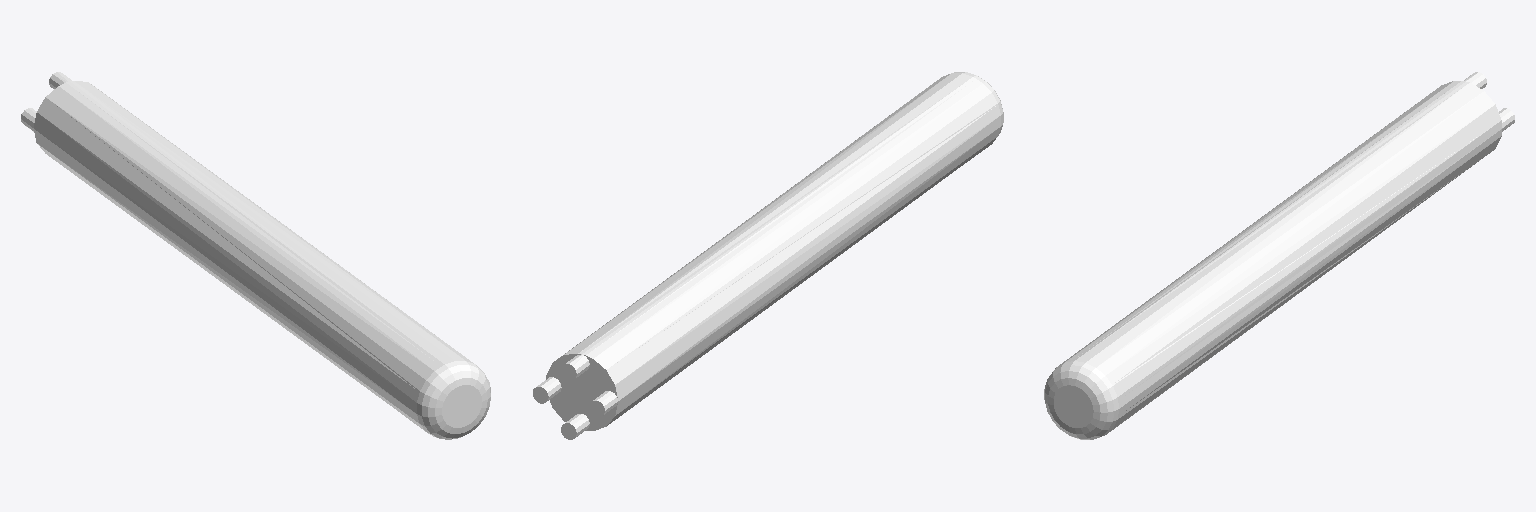
URDF robot description (T1301):
<robot
  name="T1301">
  <link
    name="T1301">
    <inertial>
      <origin
        xyz="4.4228E-07 -10.386 -2.98859999364062E-07"
        rpy="0 0 0" />
      <mass
        value="83706" />
      <inertia
        ixx="3121828.49466314"
        ixy="0.397474323969764"
        ixz="1.10641399662118E-08"
        iyy="52914.1877240007"
        iyz="0.268581425171284"
        izz="3121828.7945705" />
    </inertial>
    <visual>
      <origin
        xyz="0 0 0"
        rpy="1.5707963267949 0 0" />
      <geometry>
        <mesh
          filename="package://T1301/meshes/T1301.STL" />
      </geometry>
      <material
        name="">
        <color
          rgba="1 1 1 1" />
      </material>
    </visual>
    <collision>
      <origin
        xyz="0 0 0"
        rpy="1.5707963267949 0 0" />
      <geometry>
        <mesh
          filename="package://T1301/meshes/T1301.STL" />
      </geometry>
    </collision>
  </link>
</robot>

--- Render facts (derived) ---
3 views of the same robot in one strip: view 1: azimuth 30°, elevation 25°; view 2: azimuth 150°, elevation 25°; view 3: azimuth 330°, elevation 25° (orthographic).
Model T1301 with 1 links and 0 joints (none), rooted at T1301, posed every joint at zero.
Links seen in each view (by area): view 1: T1301; view 2: T1301; view 3: T1301.
Link boxes in pixels (x1,y1,x2,y2): T1301: [21, 72, 490, 439]; T1301: [533, 72, 1003, 439]; T1301: [1044, 72, 1514, 439].
Size in the robot's own frame: 2.25 by 21.7 by 2.25 metres.
1 mesh visuals loaded from 1 distinct referenced files (1 binary STL).